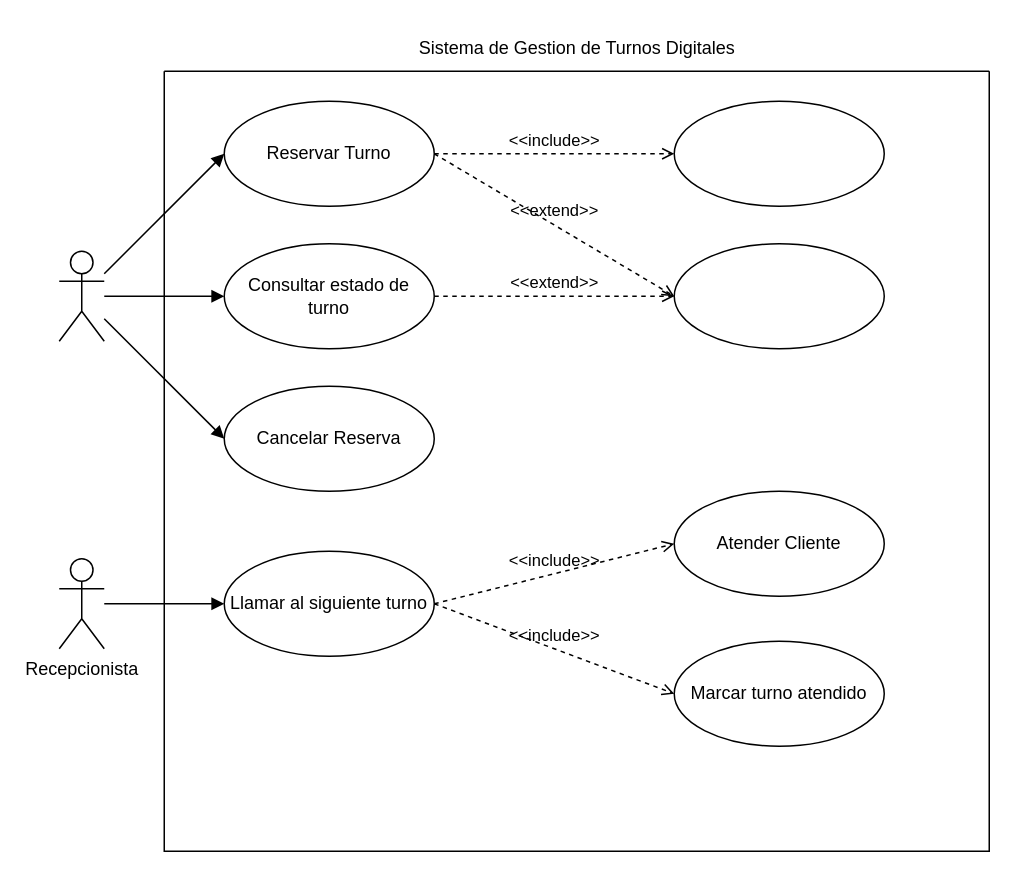
Some shapes in this 1016 by 878 pixel diagram are drawn without their labels. Here are the shapes that lost their labels. From the top down, the centre of each, then its label:
At [778,153]: "Generar Número".
At [81,295]: "Cliente".
At [778,295]: "Notificación SMS/Email".
